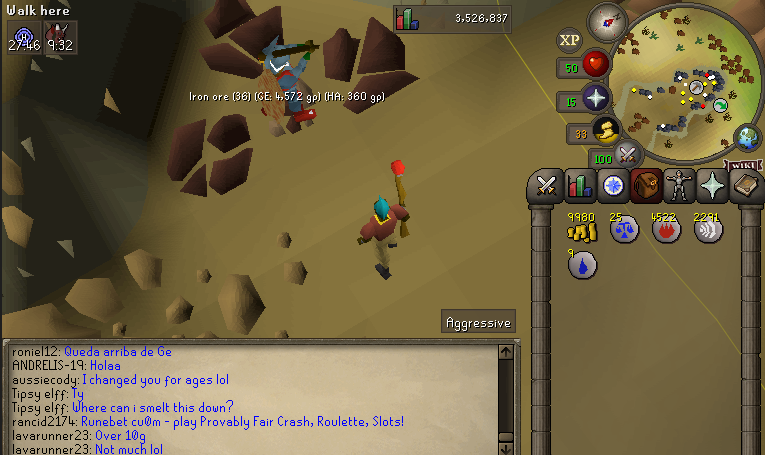iron: (319, 16, 420, 111), (157, 114, 259, 199), (195, 1, 289, 80)
